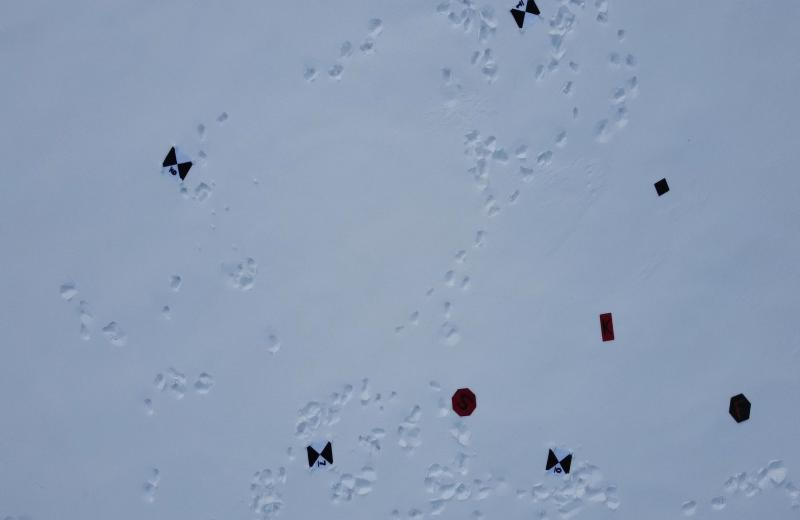Hexagon: (726, 390, 753, 424)
Octagon: (449, 384, 478, 420)
Rectangle: (596, 310, 617, 345)
Square: (653, 176, 672, 198)
